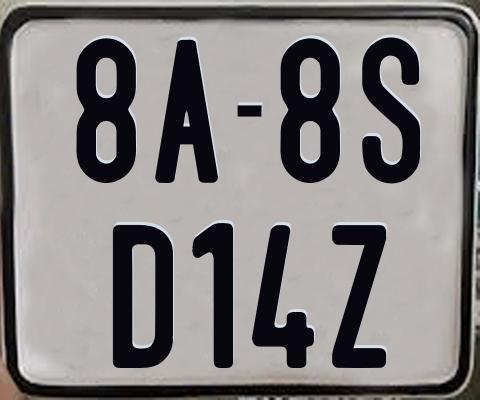1: (190, 222, 235, 370)
4: (249, 225, 317, 373)
8: (76, 38, 141, 188), (278, 36, 342, 183)
A: (155, 40, 222, 186)
D: (110, 222, 171, 368)
S: (360, 37, 419, 190)
Z: (329, 224, 386, 373)
